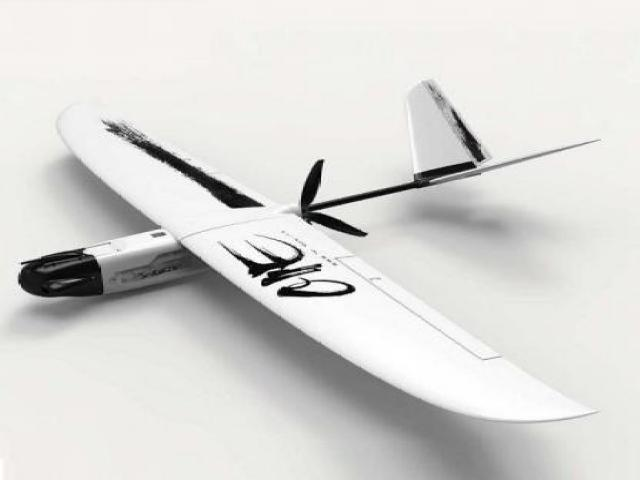uav: (17, 78, 603, 422)
